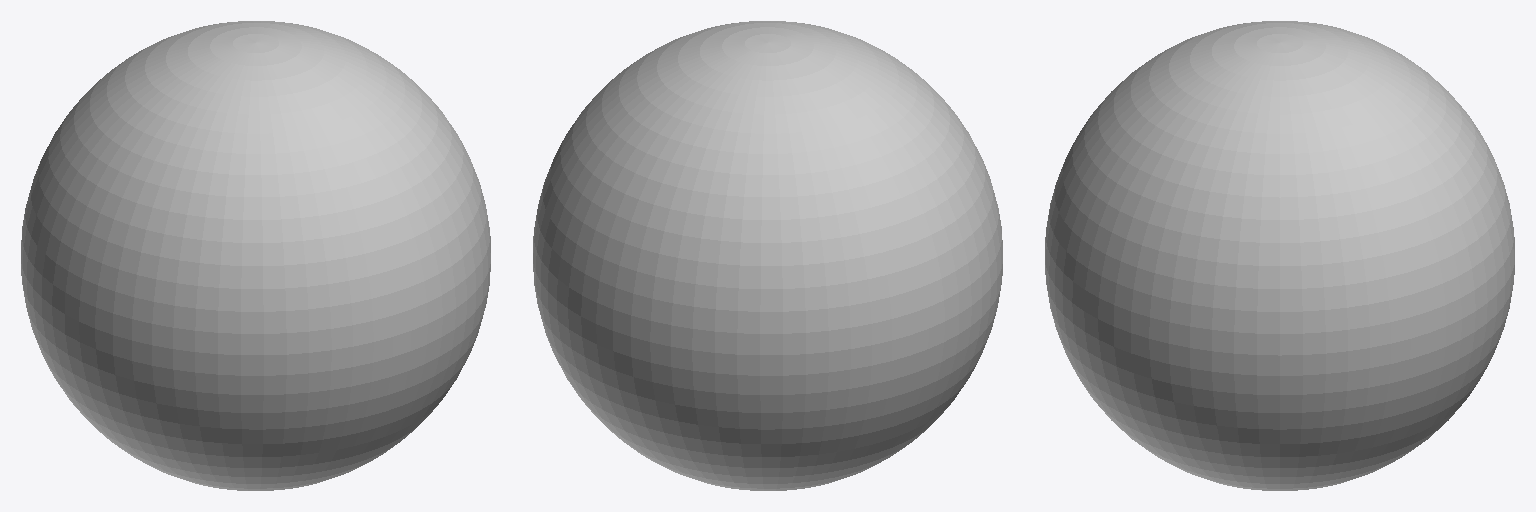
File: earth.obj
The picture shows the model from 3 angles: view 1: azimuth 30°, elevation 25°; view 2: azimuth 150°, elevation 25°; view 3: azimuth 270°, elevation 25°; orthographic projection.
Visible parts, largest first — view 1: Earth; view 2: Earth; view 3: Earth.
Boxes of the visible parts, x1=… form: Earth: x1=21, y1=21, x2=490, y2=490; Earth: x1=533, y1=21, x2=1002, y2=490; Earth: x1=1045, y1=21, x2=1514, y2=490.
Size of the model in its own units: 5.55 by 5.55 by 5.55.